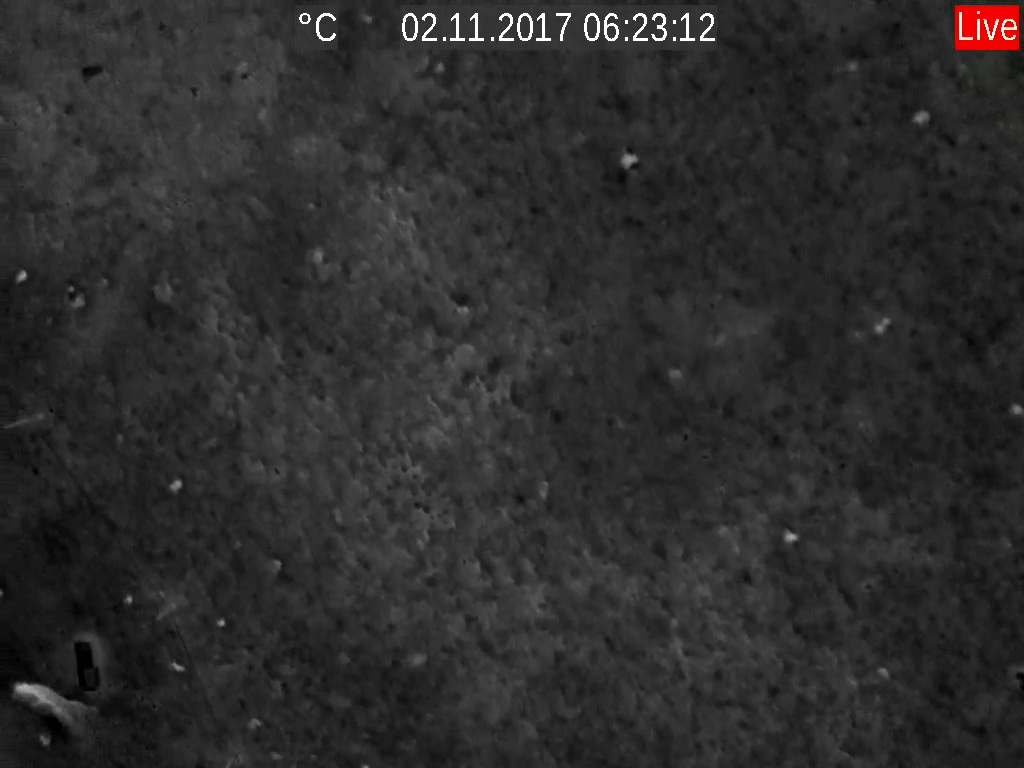warren: (9, 674, 99, 743), (615, 145, 644, 173), (872, 313, 895, 338), (778, 524, 801, 548), (165, 475, 186, 495), (168, 657, 188, 676), (14, 265, 32, 286)
